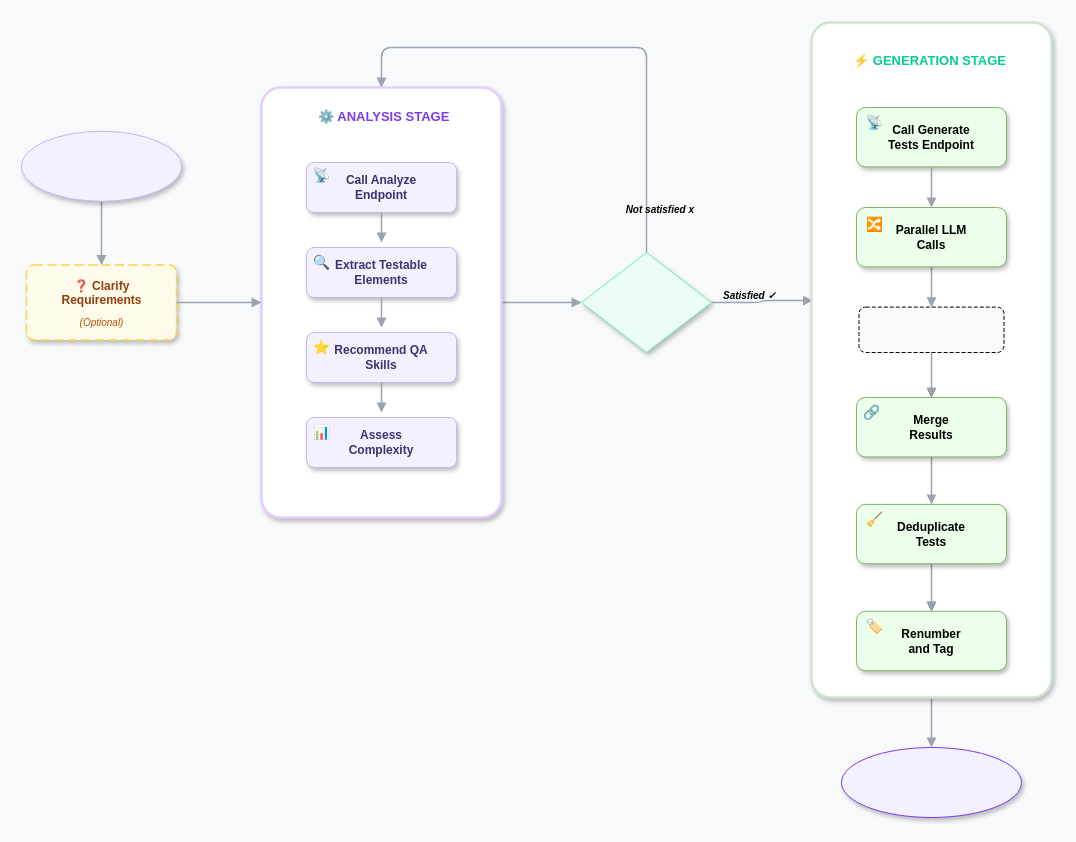
Some shapes in this 1076 by 842 pixel diagram are drawn without their labels. Each missing label, with the centre of its shape:
"Requirements Input" belongs at [102,167].
"User Review" belongs at [647,304].
"Validate Each Skill Output" belongs at [931,329].
"✅ Final Test Suite" belongs at [932,783].
